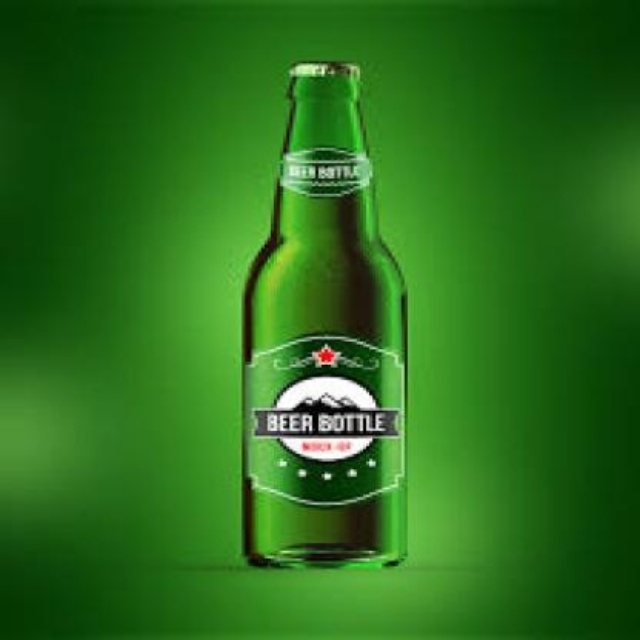trash: (245, 62, 405, 565)
